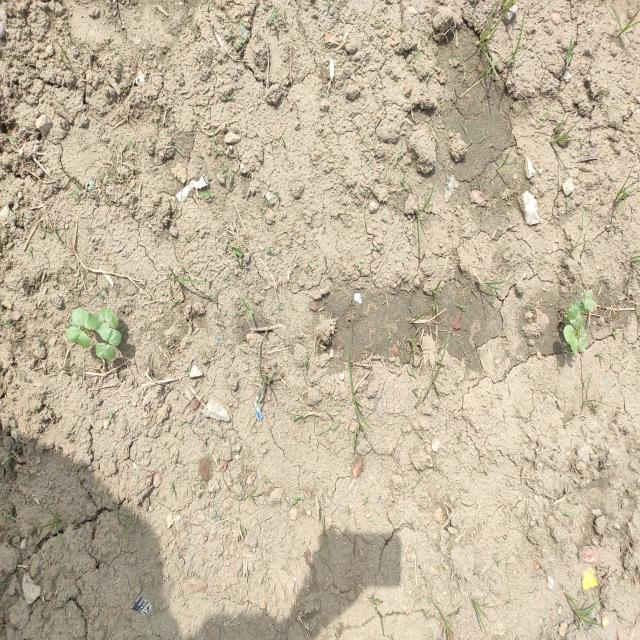seedling: (72, 308, 99, 331), (67, 326, 90, 348), (563, 324, 579, 352), (100, 326, 121, 346), (100, 307, 119, 329), (567, 306, 584, 329), (94, 312, 110, 334), (95, 343, 116, 359), (581, 291, 597, 312), (572, 300, 589, 314), (579, 325, 587, 352)
